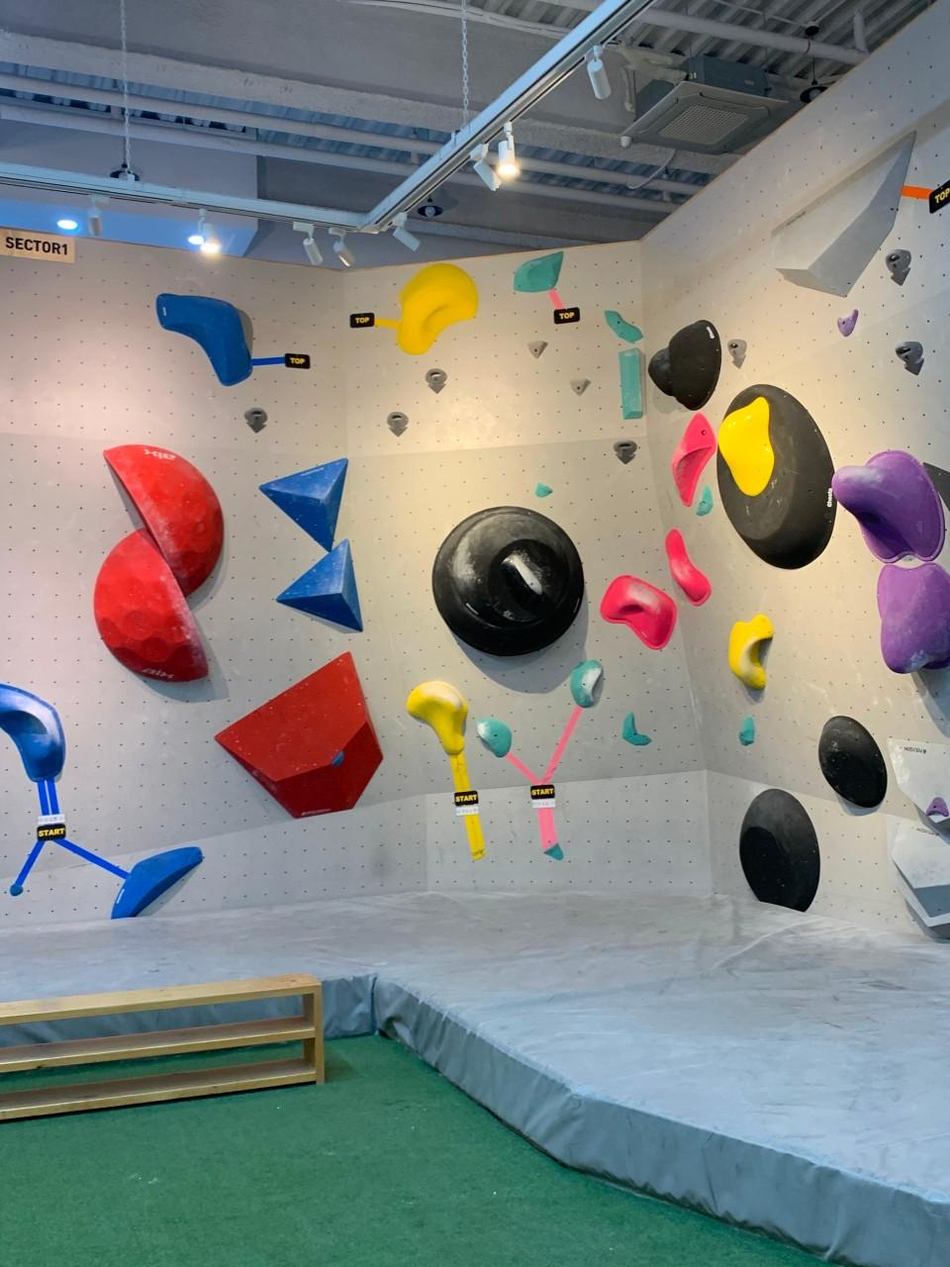hold: (432, 506, 584, 657), (104, 444, 222, 595), (93, 530, 207, 682), (832, 450, 945, 564), (740, 789, 819, 910), (155, 293, 252, 385), (878, 563, 949, 673), (396, 263, 478, 355), (649, 320, 722, 409), (112, 847, 202, 919), (0, 683, 65, 780), (819, 716, 887, 807), (717, 396, 774, 496), (600, 575, 676, 648), (407, 680, 467, 754), (672, 414, 716, 506), (666, 529, 711, 606), (728, 614, 773, 690), (514, 251, 563, 291), (618, 348, 642, 419), (569, 660, 603, 708), (477, 718, 511, 757), (607, 310, 644, 342), (622, 713, 653, 745), (896, 341, 923, 374), (886, 248, 909, 285), (244, 407, 267, 434), (613, 440, 638, 464), (837, 309, 858, 337), (727, 339, 746, 368), (386, 412, 408, 437), (425, 367, 446, 393), (697, 485, 712, 516), (927, 797, 949, 817), (740, 716, 755, 744), (528, 341, 547, 358), (543, 843, 562, 859), (571, 379, 590, 395), (535, 482, 552, 497), (331, 751, 343, 766)
volume: (215, 652, 382, 818), (717, 384, 835, 569), (774, 138, 912, 296), (261, 459, 346, 551), (886, 814, 949, 938), (276, 539, 362, 629), (889, 739, 949, 824)
